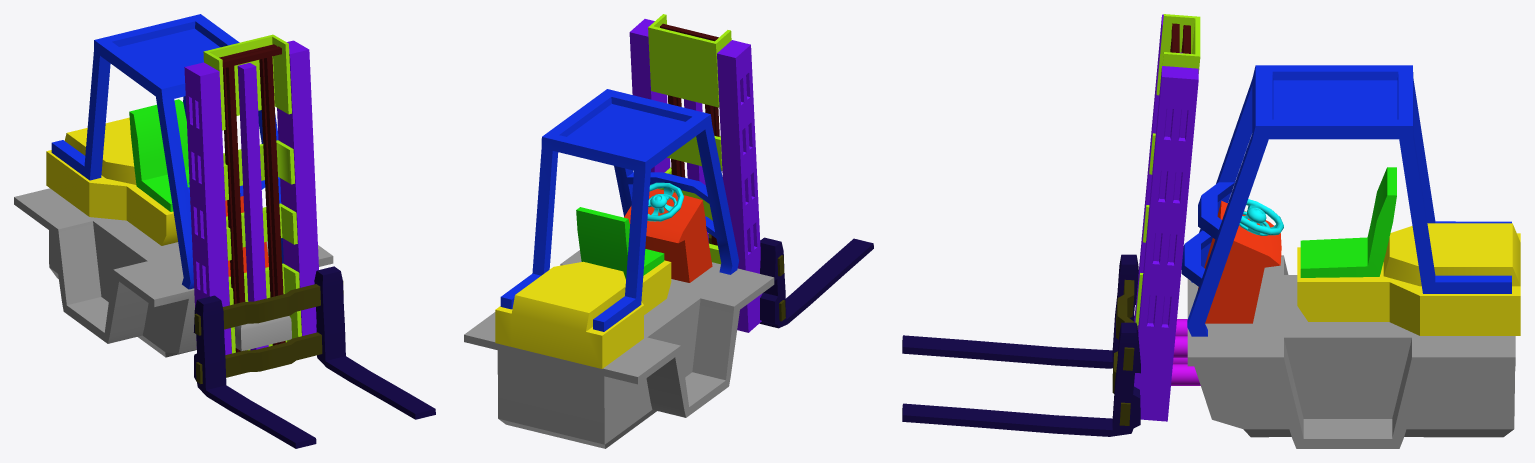
The model's file is Fork_Lift_Low.fbx.
The picture shows the model from 3 angles, left to right: view 1: azimuth 30°, elevation 25°; view 2: azimuth 150°, elevation 25°; view 3: azimuth 270°, elevation 25°; orthographic projection. The views are drawn at different scales.
Visible parts, largest first — view 1: Fork_Lift_Mast_low, Fork_Lift_Main_low, Fork_Lift_Roof_low, Fork_Lift_Fork_low, Fork_Lift_Back_low, Fork_Lift_Chain_low, Fork_Lift_Silinder_low, Fork_Lift_Carry_low, Fork_Lift_Seat_low; view 2: Fork_Lift_Main_low, Fork_Lift_Roof_low, Fork_Lift_Back_low, Fork_Lift_Mast_low, Fork_Lift_Silinder_low, Fork_Lift_Fork_low, Fork_Lift_Handle_Body_low, Fork_Lift_Seat_low, Fork_Lift_Chain_low, Fork_Lift_Handle_low; view 3: Fork_Lift_Main_low, Fork_Lift_Roof_low, Fork_Lift_Back_low, Fork_Lift_Mast_low, Fork_Lift_Fork_low, Fork_Lift_Seat_low, Fork_Lift_Handle_Body_low, Fork_Lift_Silinder_low, Fork_Lift_Carry_low, Fork_Lift_Support_low, Fork_Lift_Handle_low.
Boxes of the visible parts, bbox=[...] form: Fork_Lift_Mast_low: bbox=[184, 40, 318, 354]; Fork_Lift_Main_low: bbox=[14, 188, 333, 357]; Fork_Lift_Roof_low: bbox=[51, 14, 283, 289]; Fork_Lift_Fork_low: bbox=[193, 266, 435, 448]; Fork_Lift_Back_low: bbox=[46, 117, 177, 245]; Fork_Lift_Chain_low: bbox=[219, 44, 285, 352]; Fork_Lift_Silinder_low: bbox=[203, 34, 301, 353]; Fork_Lift_Carry_low: bbox=[194, 281, 343, 384]; Fork_Lift_Seat_low: bbox=[129, 99, 189, 211]; Fork_Lift_Main_low: bbox=[464, 250, 774, 448]; Fork_Lift_Roof_low: bbox=[500, 89, 738, 331]; Fork_Lift_Back_low: bbox=[495, 260, 671, 368]; Fork_Lift_Mast_low: bbox=[629, 19, 762, 332]; Fork_Lift_Silinder_low: bbox=[648, 14, 731, 264]; Fork_Lift_Fork_low: bbox=[759, 237, 873, 328]; Fork_Lift_Handle_Body_low: bbox=[624, 188, 712, 282]; Fork_Lift_Seat_low: bbox=[576, 207, 664, 278]; Fork_Lift_Chain_low: bbox=[660, 23, 721, 245]; Fork_Lift_Handle_low: bbox=[647, 182, 683, 221]; Fork_Lift_Main_low: bbox=[1137, 255, 1515, 448]; Fork_Lift_Roof_low: bbox=[1181, 65, 1511, 336]; Fork_Lift_Back_low: bbox=[1297, 223, 1520, 335]; Fork_Lift_Mast_low: bbox=[1134, 14, 1198, 421]; Fork_Lift_Fork_low: bbox=[902, 254, 1140, 436]; Fork_Lift_Seat_low: bbox=[1300, 167, 1396, 277]; Fork_Lift_Handle_Body_low: bbox=[1198, 200, 1281, 323]; Fork_Lift_Silinder_low: bbox=[1135, 14, 1200, 325]; Fork_Lift_Carry_low: bbox=[1112, 279, 1134, 425]; Fork_Lift_Support_low: bbox=[1171, 319, 1200, 385]; Fork_Lift_Handle_low: bbox=[1239, 199, 1283, 235].
Size of the model in its own units: 131 by 224 by 336.
